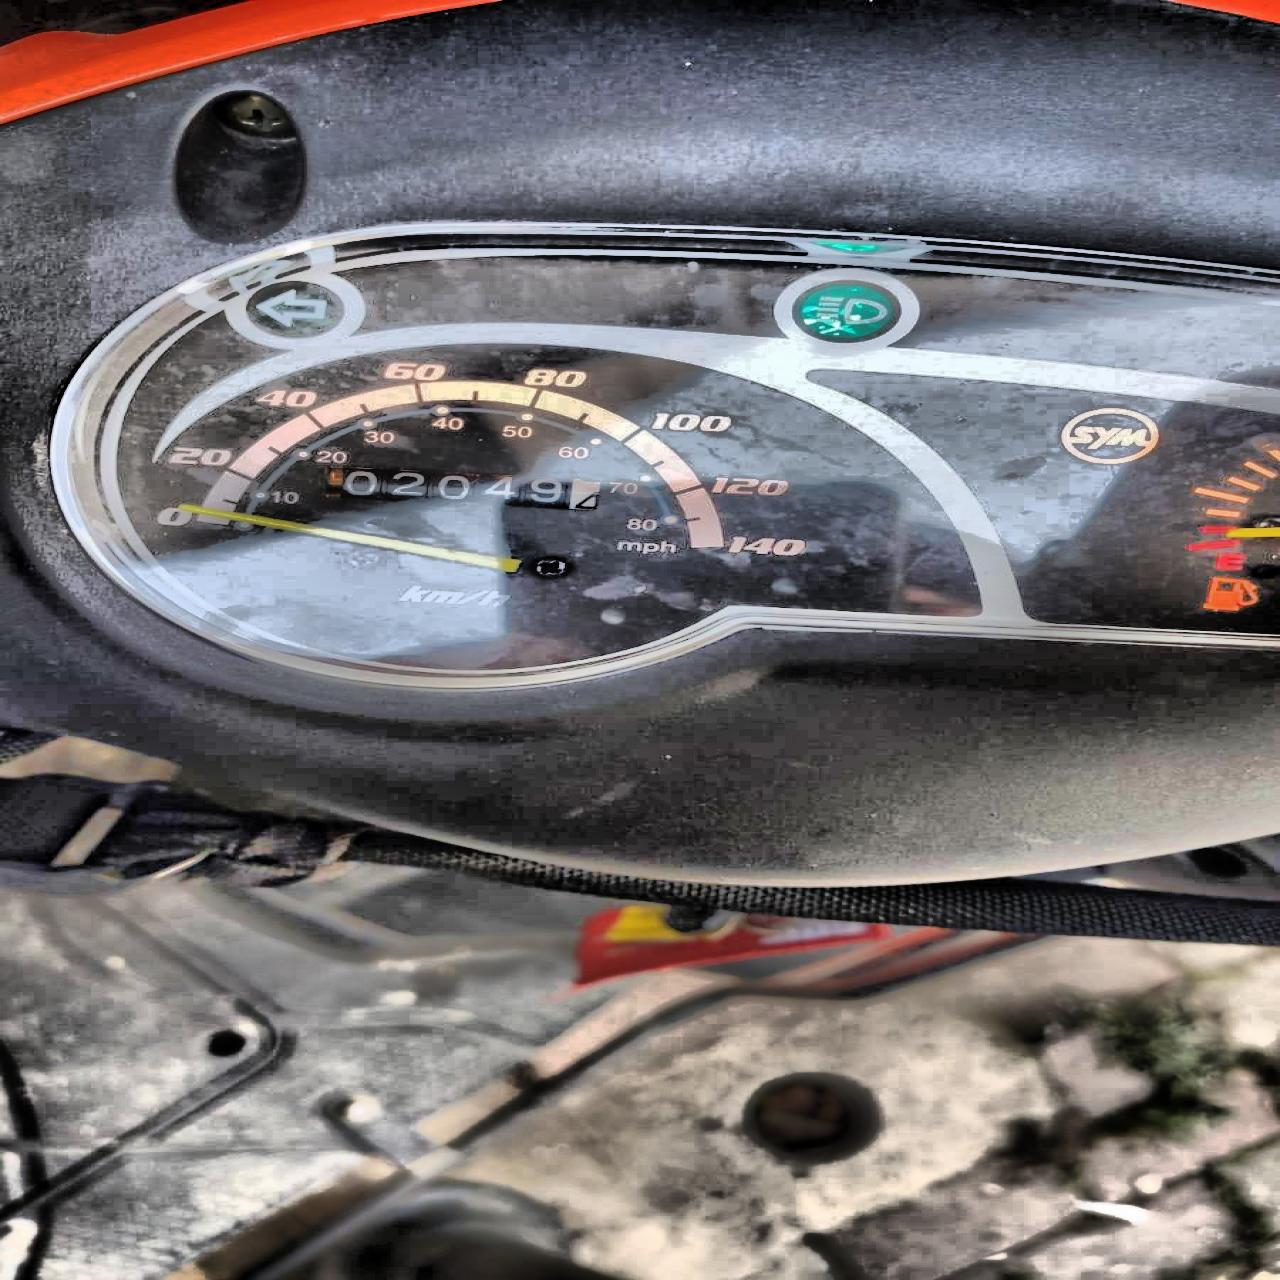0: (433, 470, 471, 499), (340, 468, 380, 496)
2: (388, 468, 425, 498)
4: (482, 474, 516, 501), (568, 488, 601, 510)
9: (526, 477, 565, 503)
odometer: (319, 464, 606, 515)
